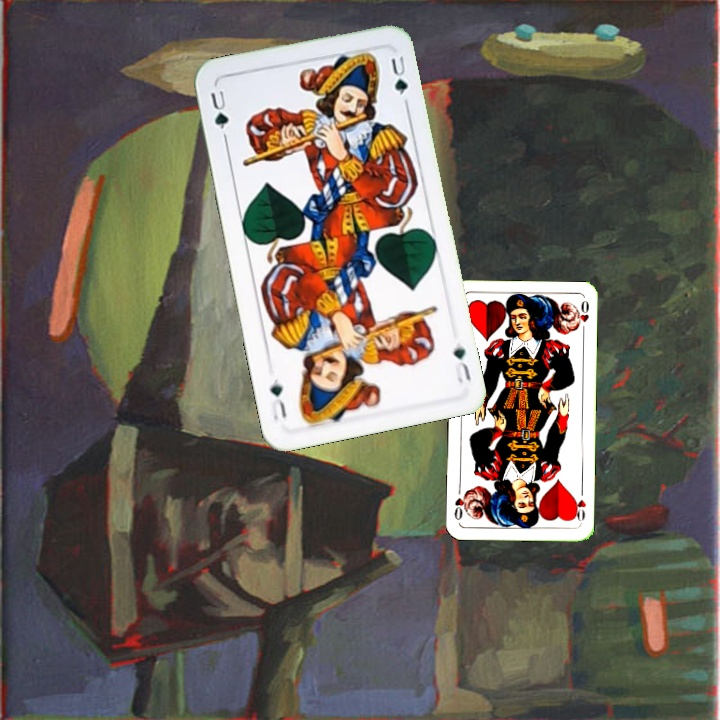GU: (449, 338, 474, 386), (206, 86, 232, 132)
HO: (570, 485, 589, 525)
